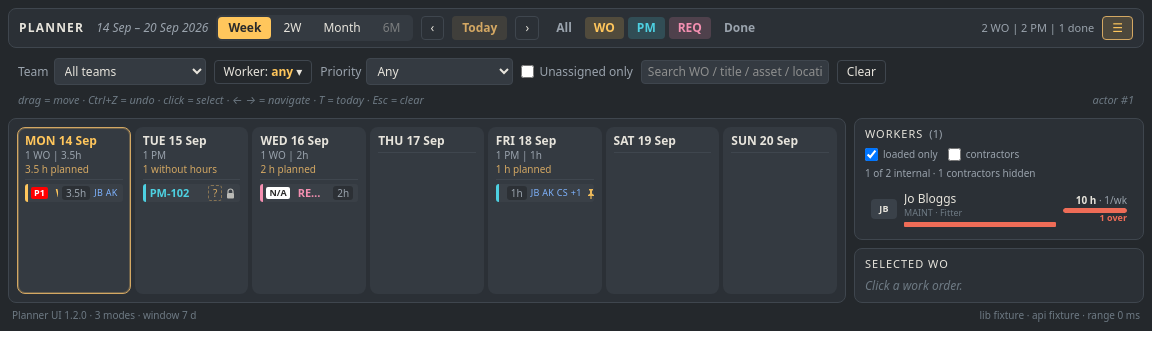
it: PlannerView - moves (DP3b) › a refused undo leaves the stack; a failed one goes back on top (OD-113)
Press the mouse on the element with class "chip" showing "P1 WO-101 3.5h JB AK" at (74, 193), box [25,184,123,202]
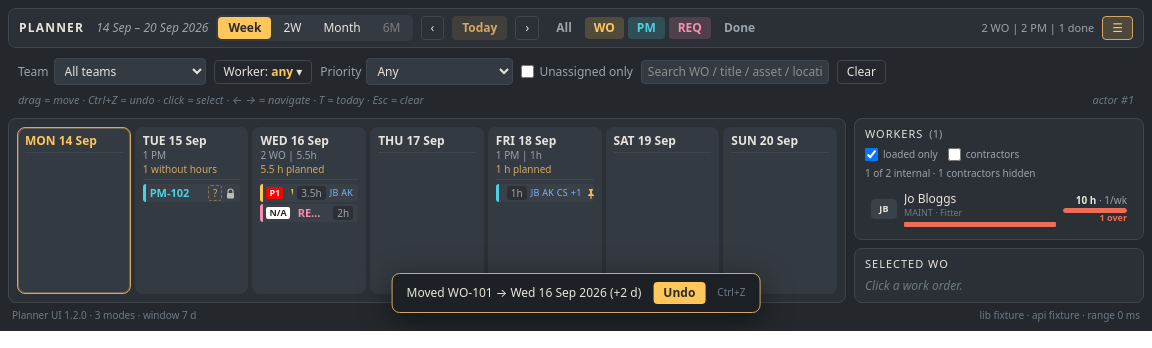
Press z
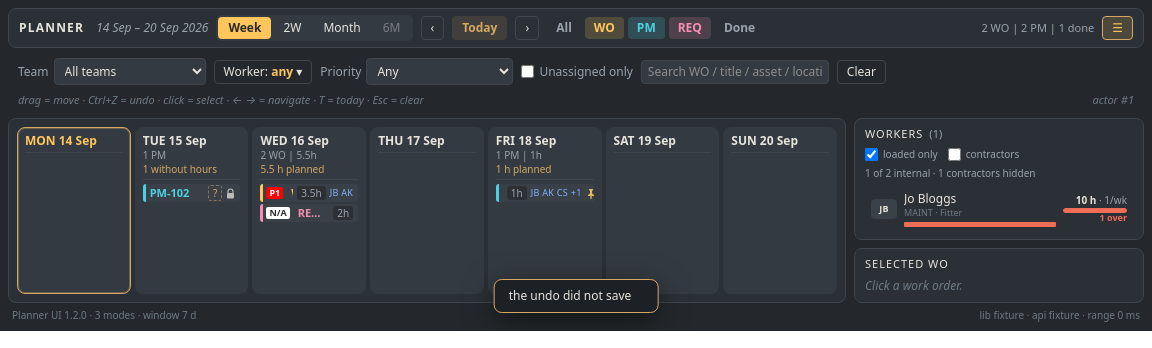
Now the text with class "msg" reads "the undo did not save", box [509,286,631,304]
Press z
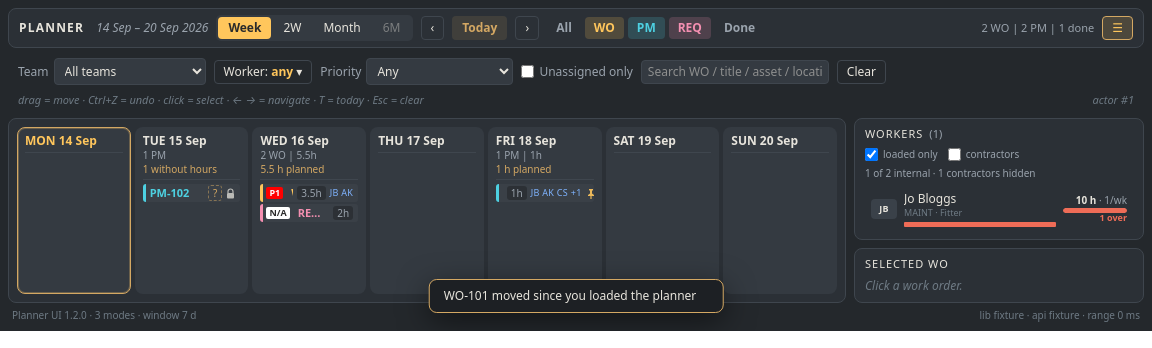
Now the text with class "msg" reads "WO-101 moved since you loaded the planner", box [444,286,696,304]
